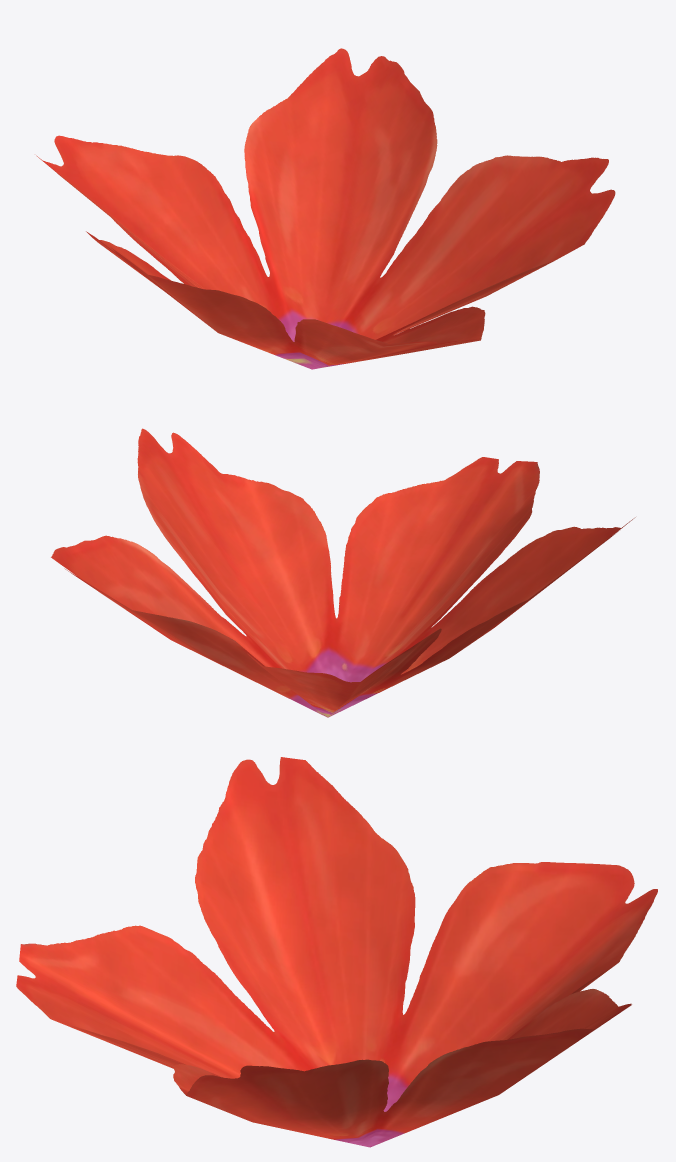
File: Petal_3.gltf
The picture shows the model from 3 angles, top to bottom: view 1: azimuth 30°, elevation 25°; view 2: azimuth 150°, elevation 25°; view 3: azimuth 270°, elevation 25°; orthographic projection. The views are drawn at different scales.
Parts seen in each view (by area): view 1: Petal_3; view 2: Petal_3; view 3: Petal_3.
Part boxes in pixels (bbox=[...]): Petal_3: bbox=[36, 48, 615, 369]; Petal_3: bbox=[51, 428, 635, 717]; Petal_3: bbox=[16, 757, 657, 1147].
Size of the model in its own units: 0.6193 by 0.2671 by 0.6058.
Materials: 1 (1 with a texture image).
